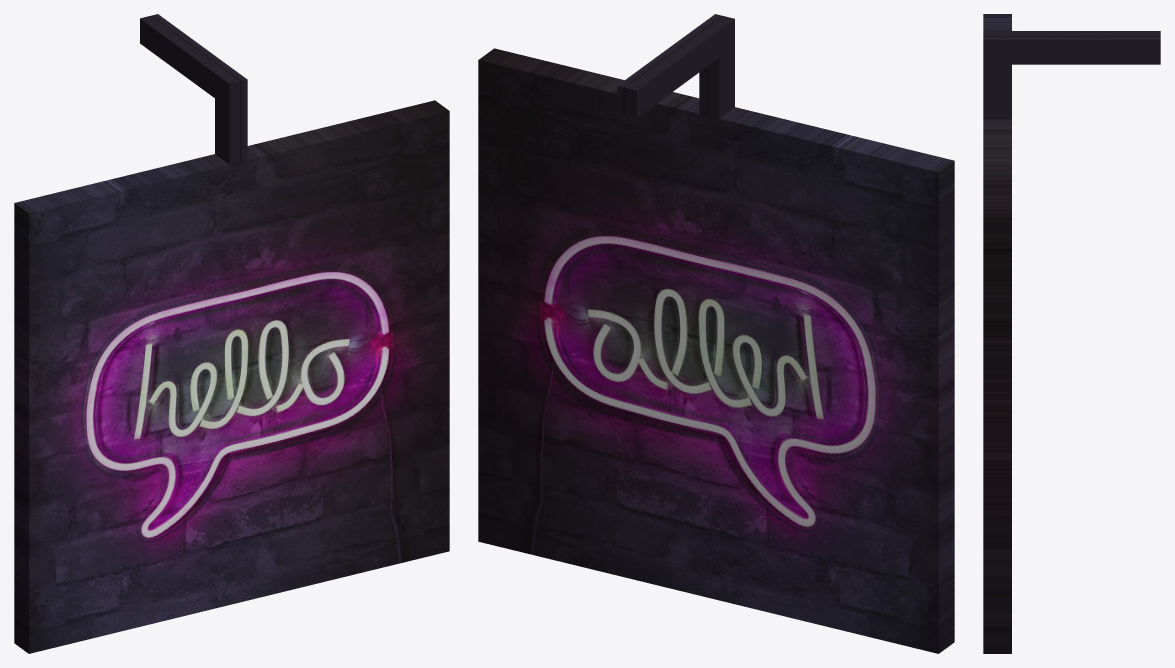
The picture shows the model from 3 angles, left to right: view 1: azimuth 30°, elevation 25°; view 2: azimuth 150°, elevation 25°; view 3: azimuth 270°, elevation 25°; orthographic projection. The views are drawn at different scales.
Visible parts, largest first — view 1: 57cd17b5-1fcd-486c-a2de-3cf3c06375b3.33e2990ab8ed009f82ff7fc; view 2: 57cd17b5-1fcd-486c-a2de-3cf3c06375b3.33e2990ab8ed009f82ff7fc; view 3: 57cd17b5-1fcd-486c-a2de-3cf3c06375b3.33e2990ab8ed009f82ff7fc.
Part boxes in pixels (x1,y1,x2,y2): 57cd17b5-1fcd-486c-a2de-3cf3c06375b3.33e2990ab8ed009f82ff7fc: (14, 14, 449, 653); 57cd17b5-1fcd-486c-a2de-3cf3c06375b3.33e2990ab8ed009f82ff7fc: (478, 14, 954, 653); 57cd17b5-1fcd-486c-a2de-3cf3c06375b3.33e2990ab8ed009f82ff7fc: (983, 14, 1160, 653).
Bounding box in the file's own units: 100 × 118 × 36.89.
